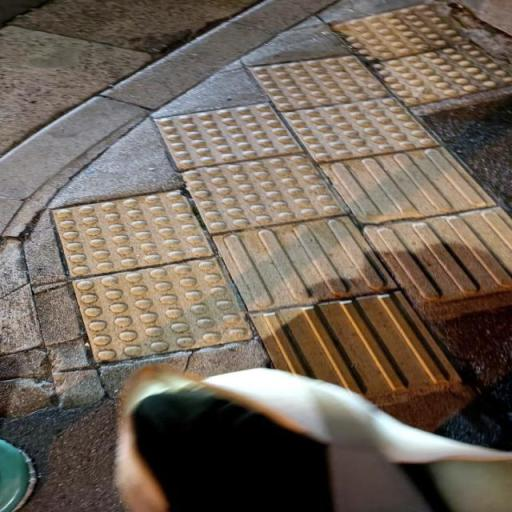dot: (72, 255, 253, 365), (50, 188, 216, 277), (177, 154, 344, 233), (281, 96, 441, 163), (155, 101, 302, 168), (370, 42, 511, 107), (331, 3, 468, 66), (246, 54, 393, 111)
line: (246, 290, 464, 397), (209, 214, 401, 314), (320, 145, 498, 228), (364, 206, 511, 306)
